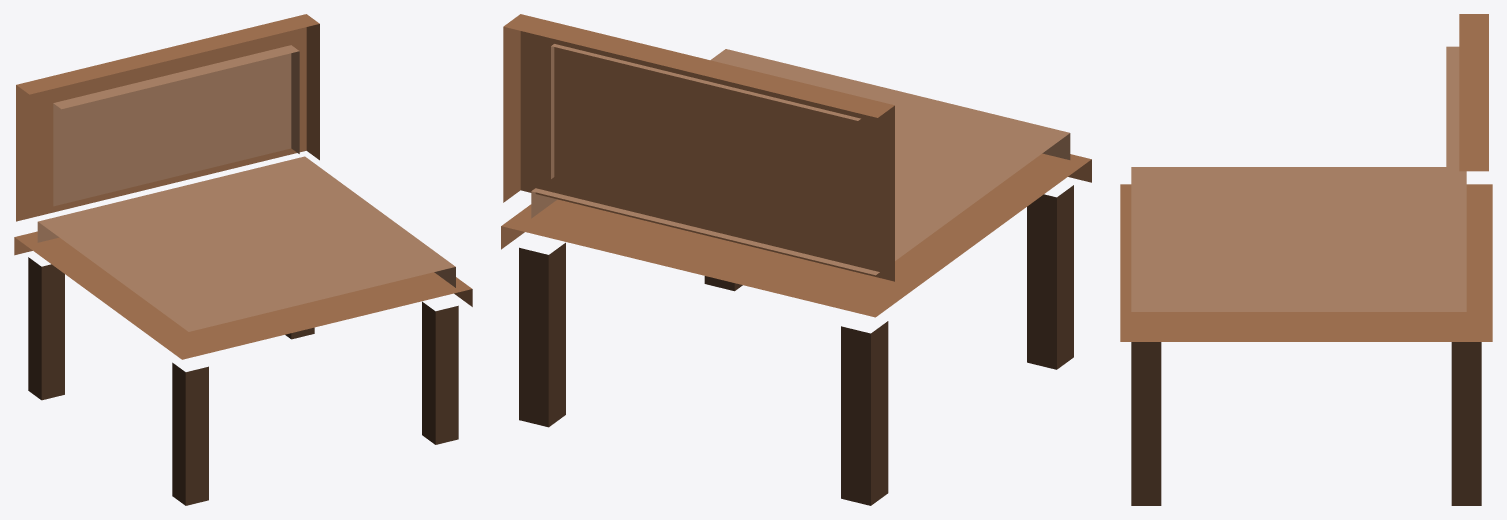
The model's file is Chair-teak.glb.
3 views of the same model, side by side, from view 1: azimuth 30°, elevation 25°; view 2: azimuth 150°, elevation 25°; view 3: azimuth 270°, elevation 25° (orthographic). The views are drawn at different scales.
Parts seen in each view (by area): view 1: Chair; view 2: Chair; view 3: Chair.
Part boxes in pixels (x1,y1,x2,y2): Chair: (14, 14, 472, 505); Chair: (501, 14, 1091, 505); Chair: (1120, 14, 1492, 505).
Bounding box in the file's own units: 1 × 1 × 1.
